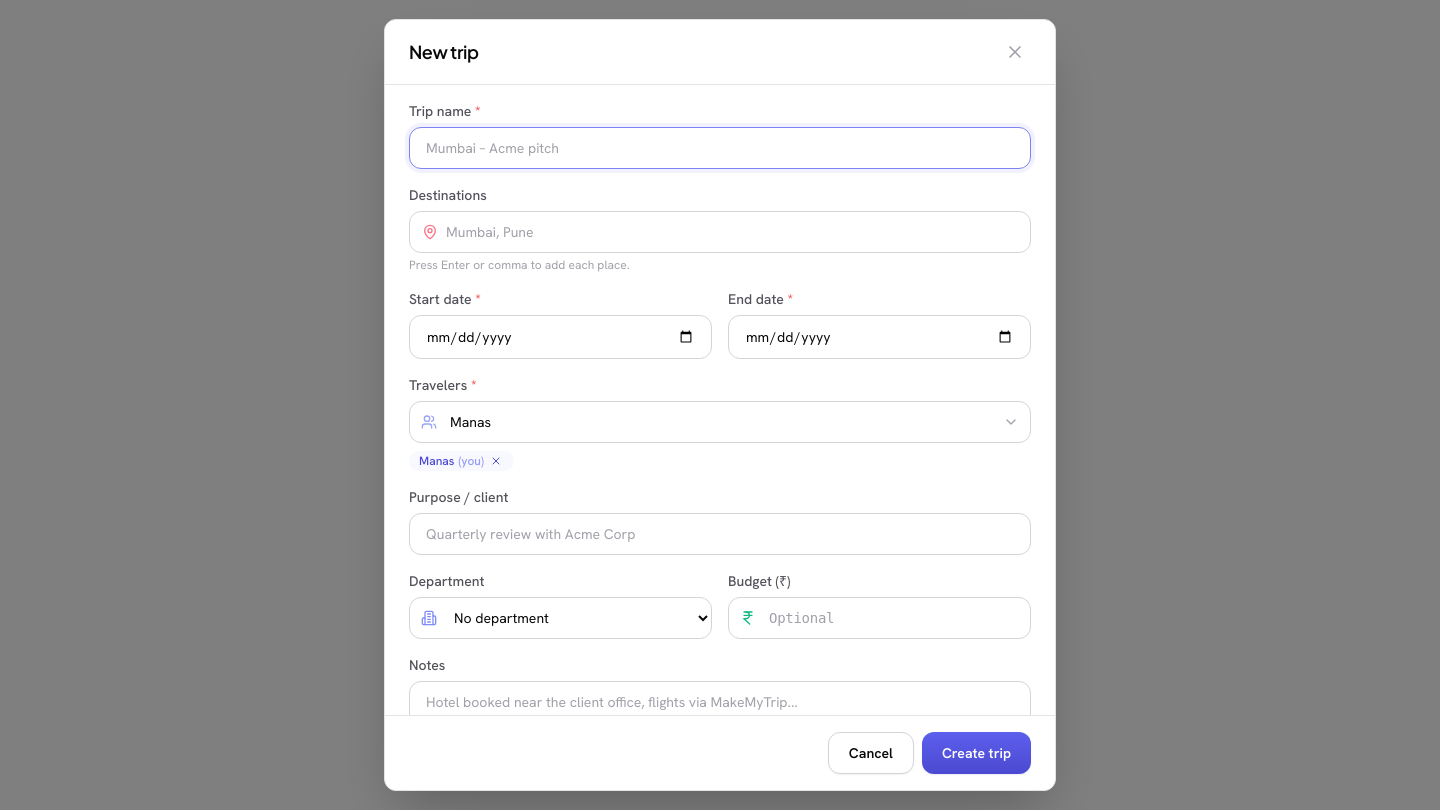
Scenario: TripFormModal › shows the validation message instead of posting
The image size is (1440, 810).
Click the button "Create trip" at x=976, y=753, box [922,732,1031,774]
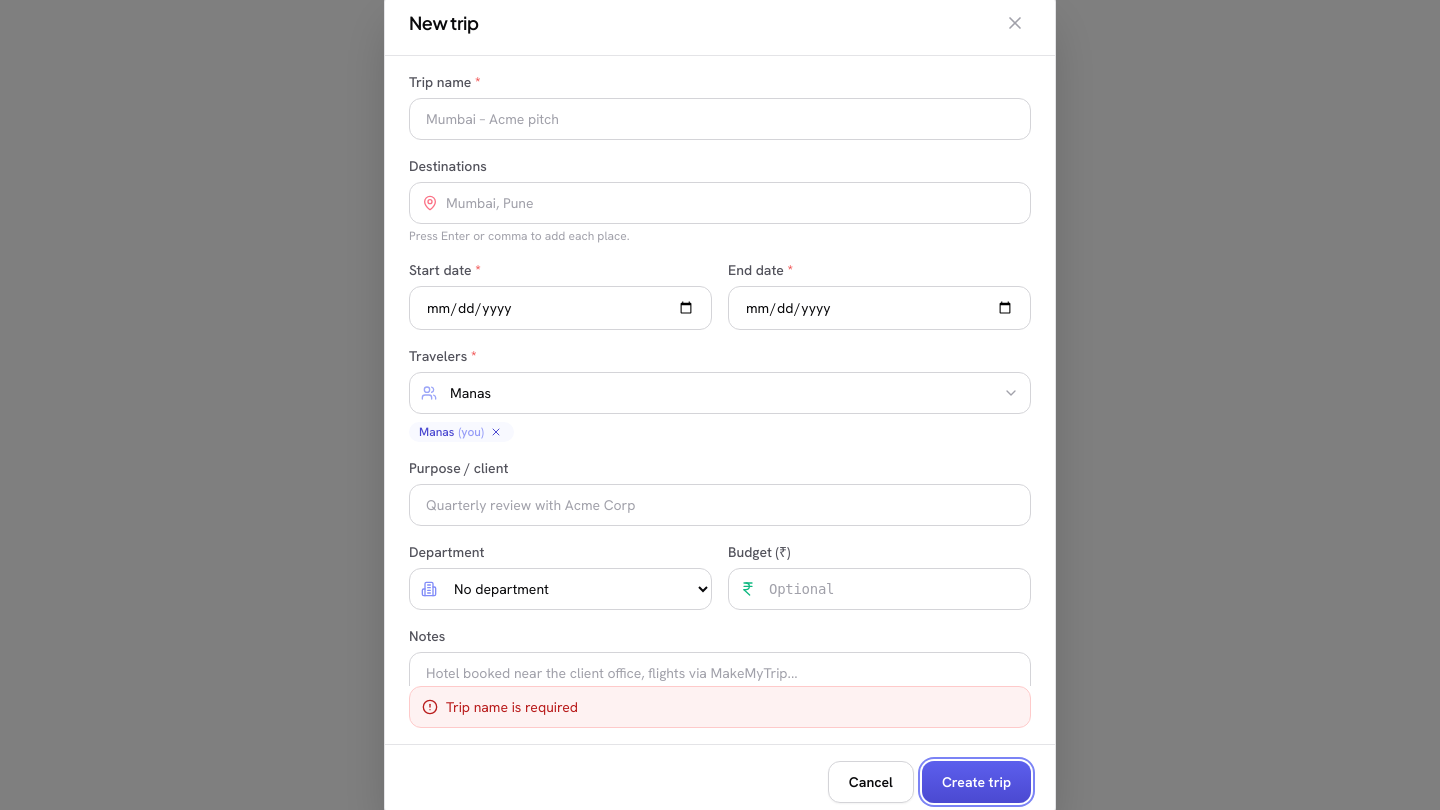
expect the message reads "Trip name is required": met, box [446,698,578,716]
Type "Pune" into the field labelled "Trip name *" at x=720, y=119, box [409,98,1031,140]
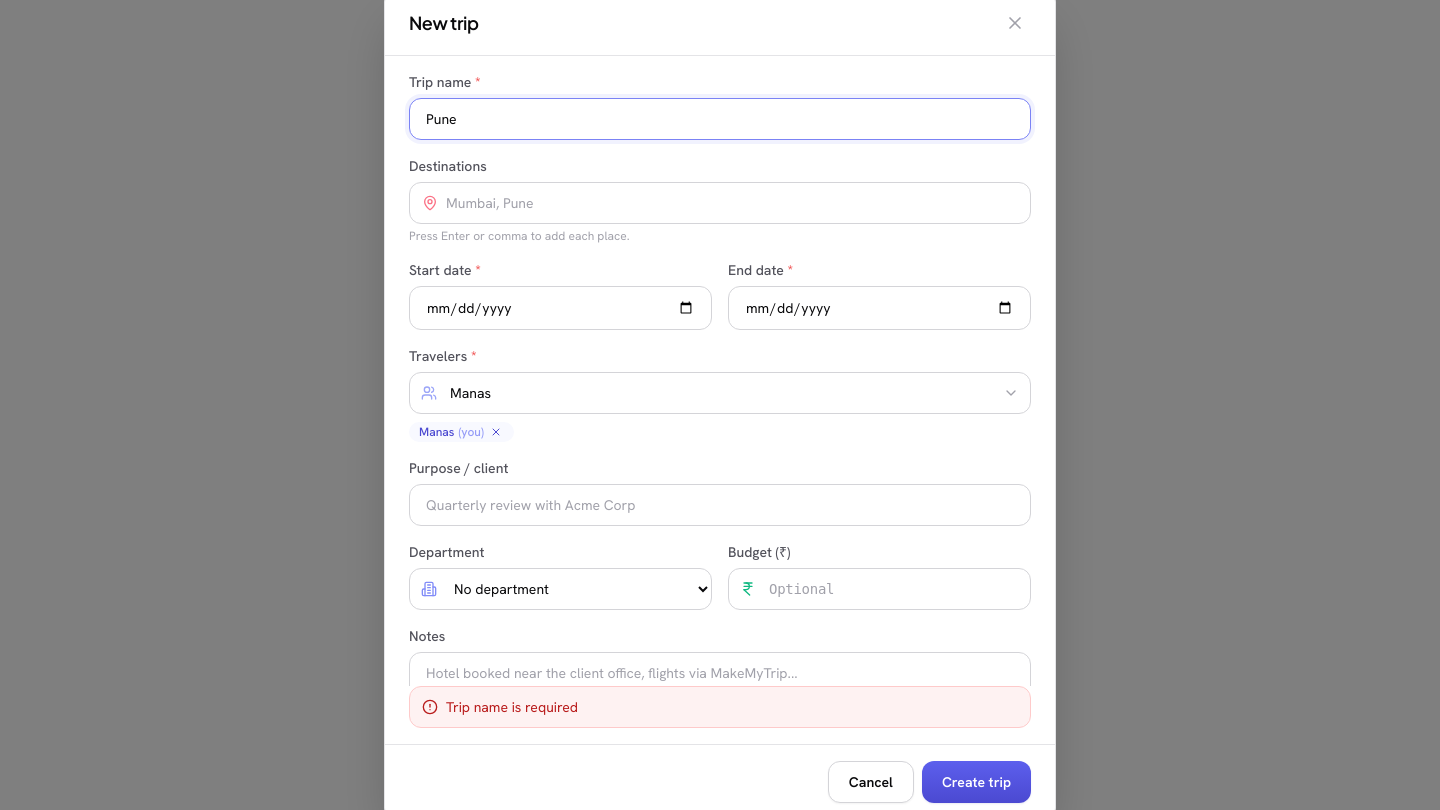
Type "2026-11-05" into the date field labelled "Start date *" at x=560, y=308, box [409,286,712,330]
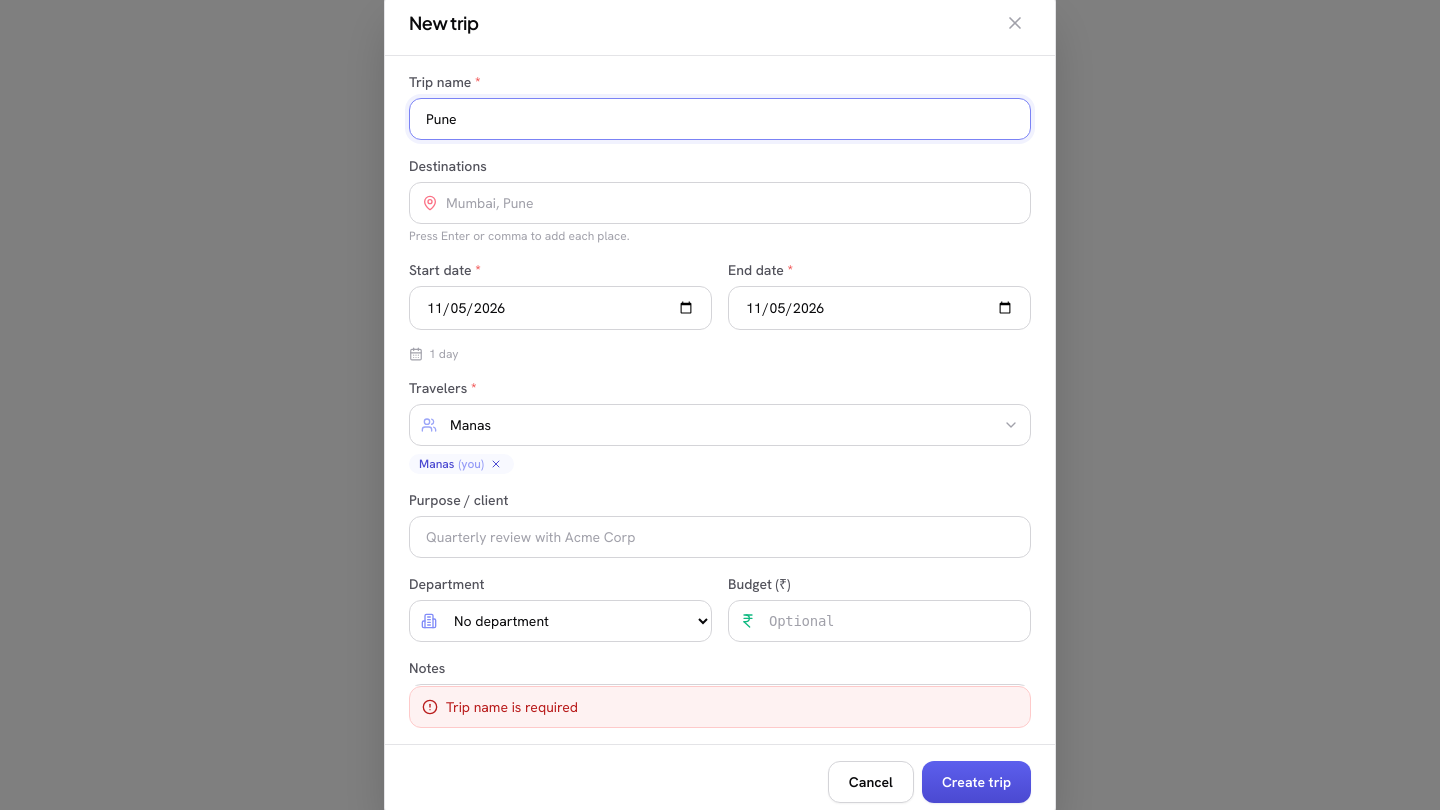
Type "2026-11-01" into the date field labelled "End date *" at x=880, y=308, box [728,286,1031,330]
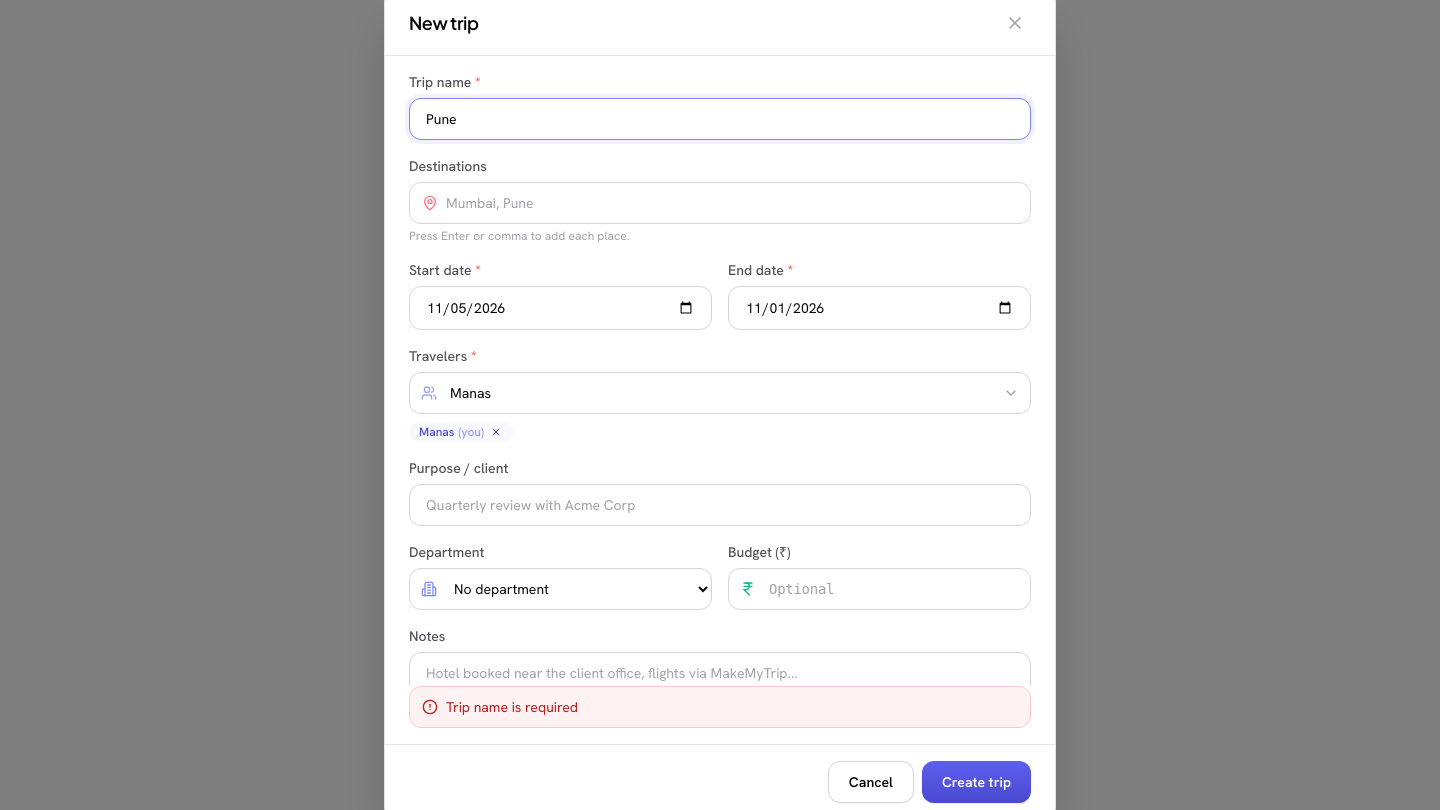
Click the button "Create trip" at x=976, y=782, box [922,761,1031,803]
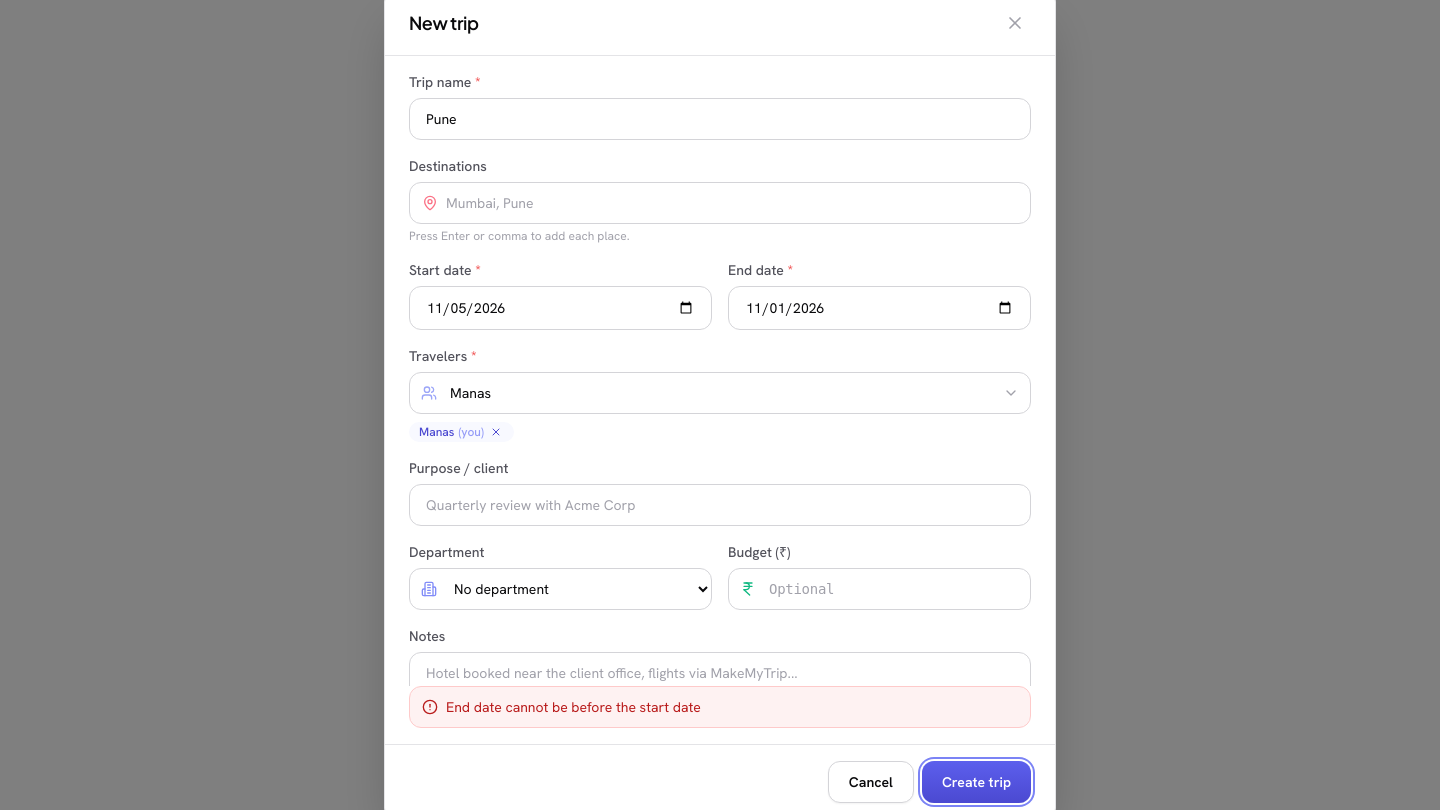
expect the message reads "End date cannot be before the start date": met, box [446,698,701,716]
